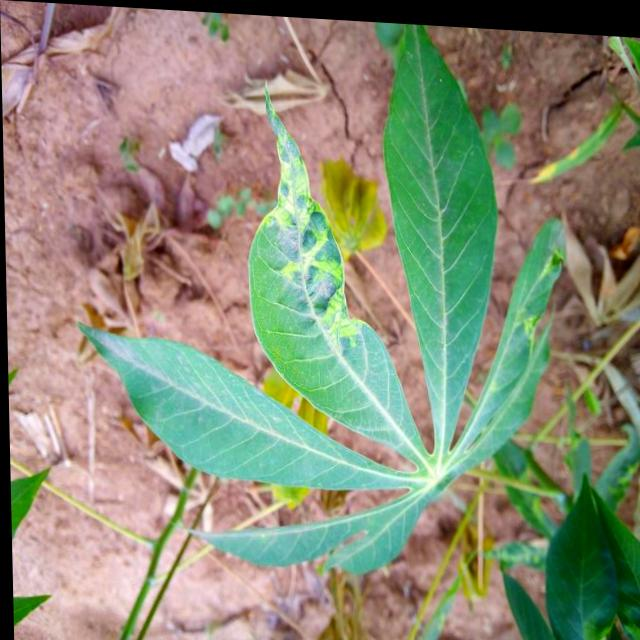Mosaico: (226, 92, 607, 564)
